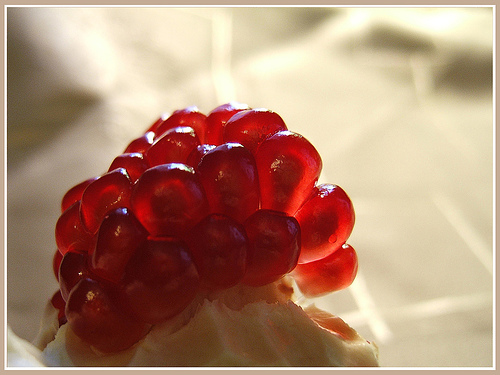pomogranate: (7, 100, 378, 366)
